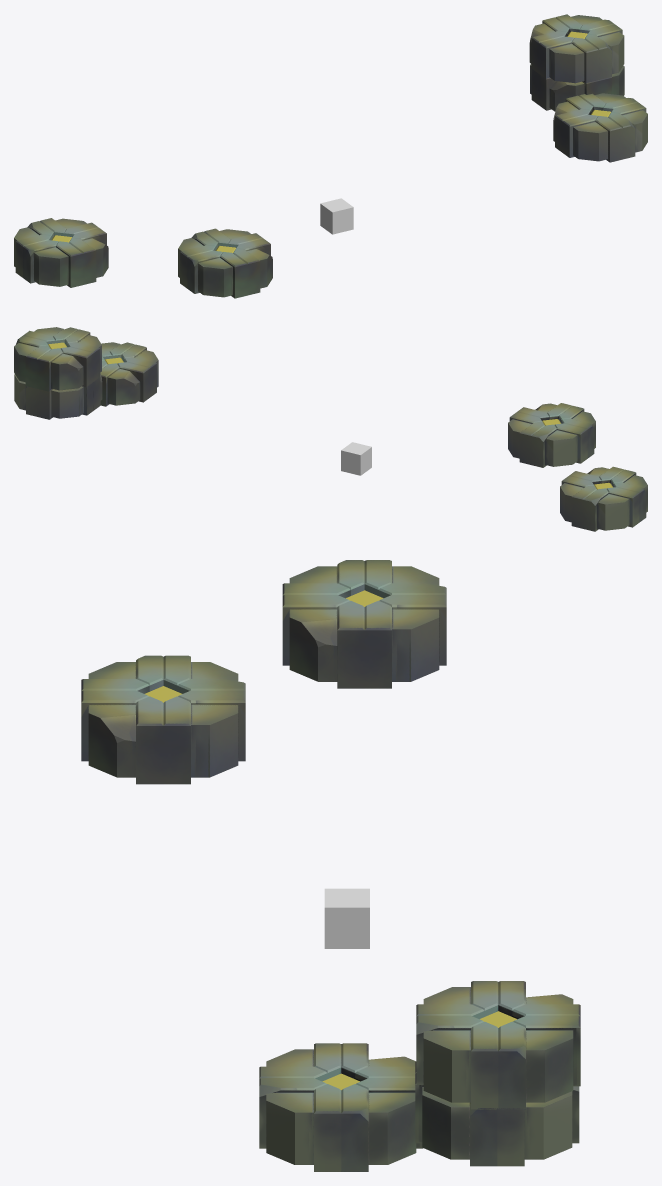
The model's file is battlescence-1-floor008.fbx.
The picture shows the model from 3 angles, top to bottom: view 1: azimuth 30°, elevation 25°; view 2: azimuth 150°, elevation 25°; view 3: azimuth 270°, elevation 25°; orthographic projection. The views are drawn at different scales.
Parts seen in each view (by area): view 1: Plane.023, Plane.018, Plane.021, Plane.017, Plane.001, battlescence-1-floor008; view 2: Plane.017, Plane.023, Plane.021, Plane.018, Plane.001, battlescence-1-floor008; view 3: Plane.021, Plane.023, Plane.017, Plane.018, Plane.001, battlescence-1-floor008.
Boxes of the visible parts, x1=… form: Plane.023: x1=14, y1=218, x2=108, y2=287; Plane.018: x1=553, y1=93, x2=647, y2=162; Plane.021: x1=178, y1=228, x2=272, y2=298; Plane.017: x1=529, y1=14, x2=624, y2=83; Plane.001: x1=530, y1=64, x2=624, y2=111; battlescence-1-floor008: x1=320, y1=198, x2=353, y2=234; Plane.017: x1=14, y1=327, x2=101, y2=391; Plane.023: x1=560, y1=466, x2=647, y2=531; Plane.021: x1=508, y1=403, x2=595, y2=467; Plane.018: x1=100, y1=342, x2=158, y2=406; Plane.001: x1=14, y1=373, x2=102, y2=419; battlescence-1-floor008: x1=341, y1=442, x2=371, y2=475; Plane.021: x1=81, y1=655, x2=245, y2=784; Plane.023: x1=282, y1=560, x2=446, y2=688; Plane.017: x1=416, y1=981, x2=580, y2=1109; Plane.018: x1=259, y1=1043, x2=423, y2=1171; Plane.001: x1=415, y1=1061, x2=579, y2=1166; battlescence-1-floor008: x1=324, y1=888, x2=369, y2=948.
Bounding box in the file's own units: 3423 × 502 × 1268.
